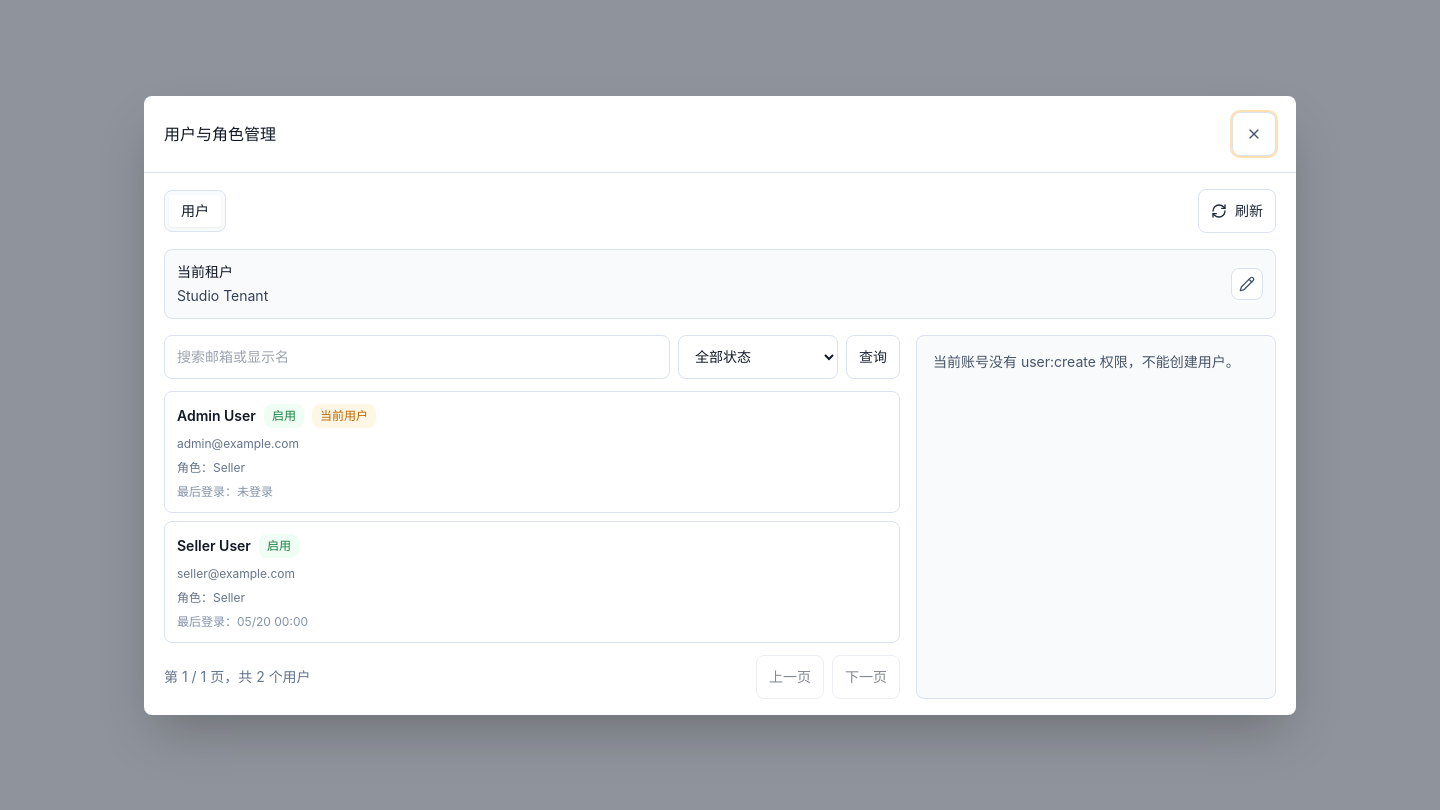
Test case: user and role admin UI › updates the current tenant name only for allowed tenant admins and does not write browser storage
Expected: the text "Studio Tenant" is shown, left=177, top=286, right=268, bottom=306
Click the button named "编辑当前租户名称" at (1247, 284), box left=1231, top=268, right=1263, bottom=300
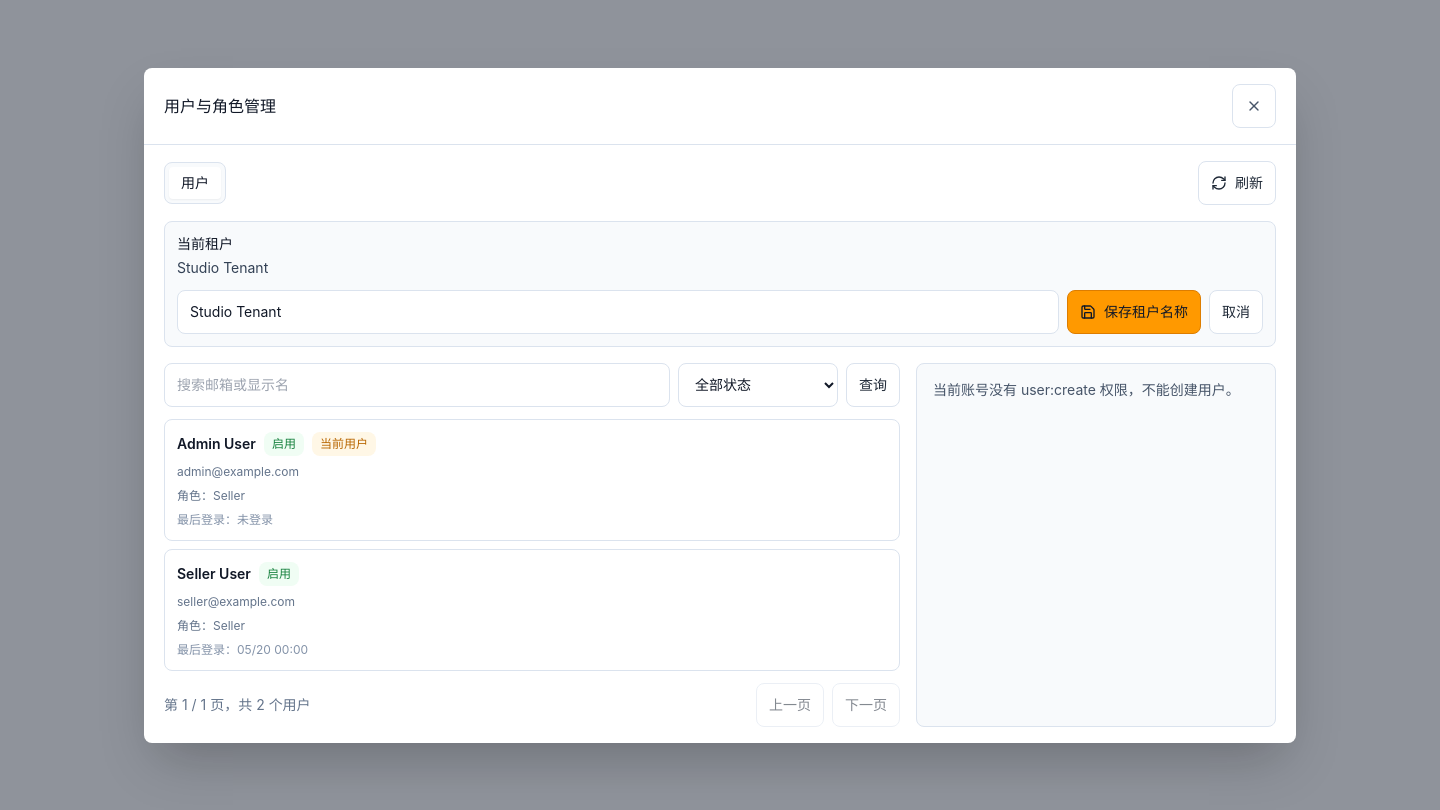
Replace the text in the field named "当前租户名称" with "Studio Team" at (618, 312), box left=177, top=290, right=1059, bottom=334
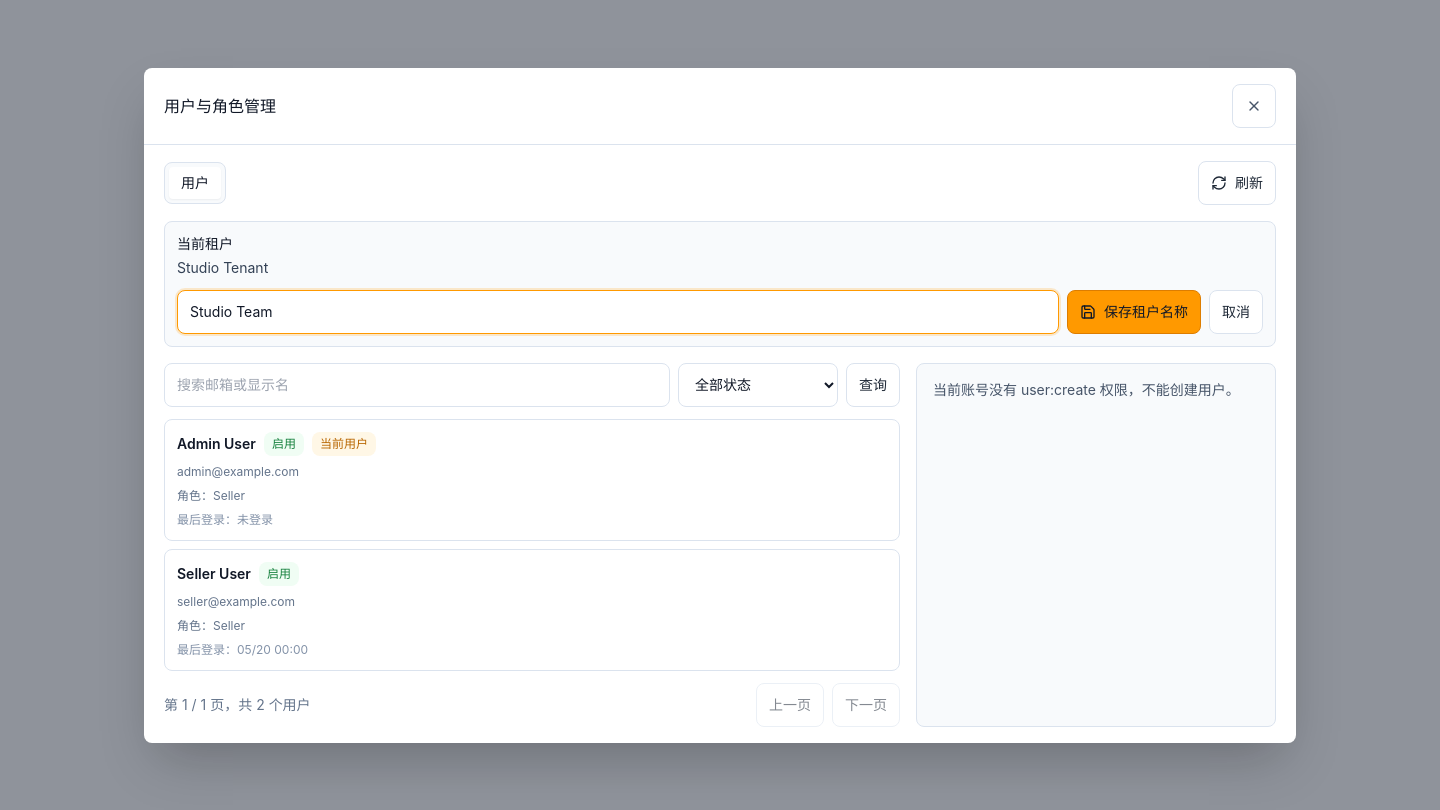
Click the button "保存租户名称" at (1134, 312), box left=1067, top=290, right=1201, bottom=334
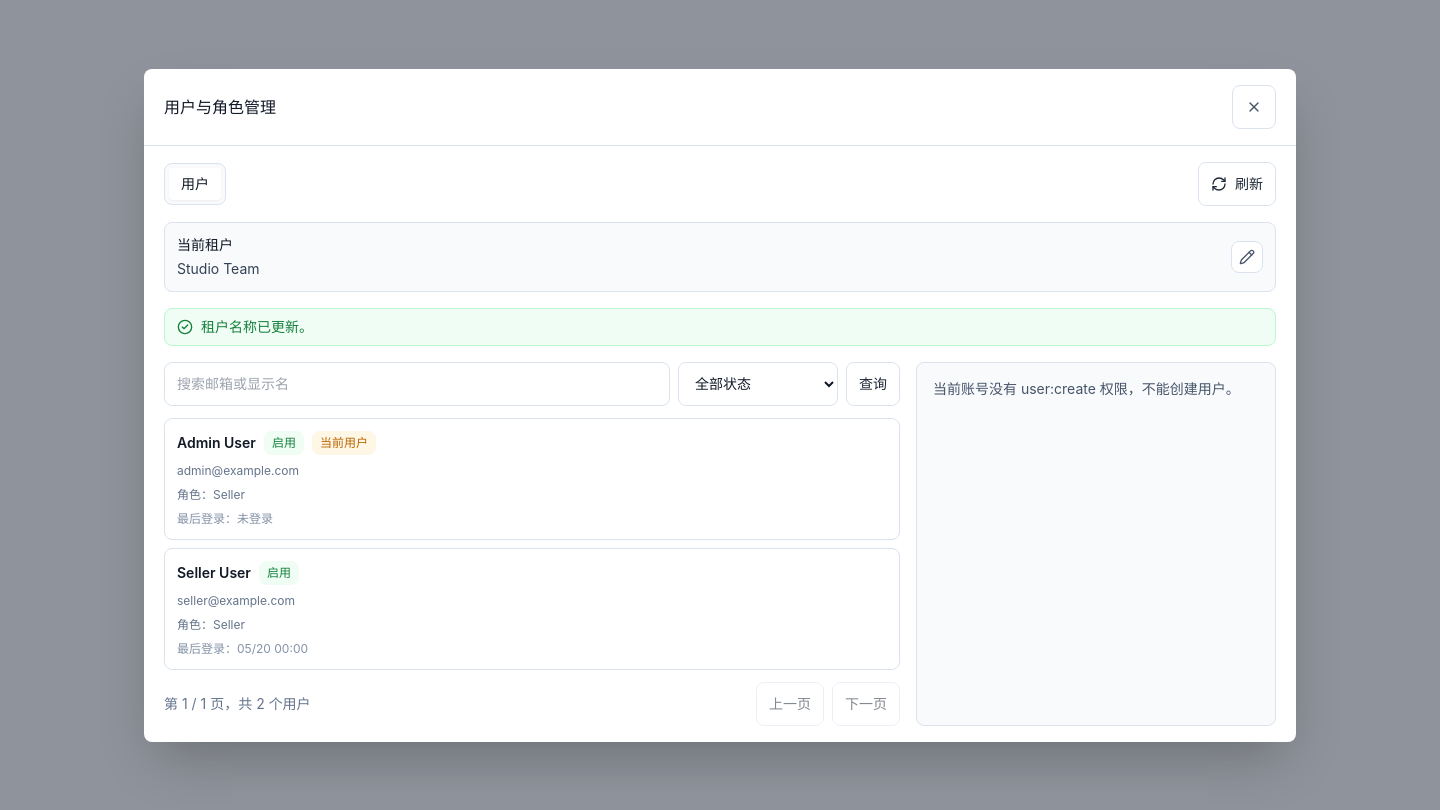
Expected: the text "Studio Team" is shown, left=177, top=258, right=260, bottom=278
